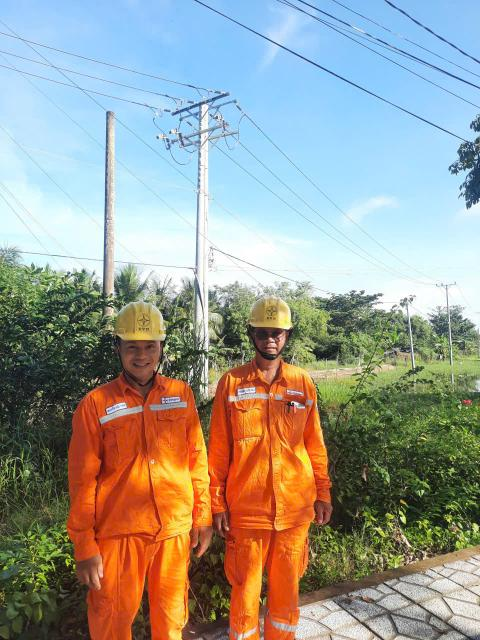helmet: (105, 295, 180, 348), (241, 284, 301, 348)
